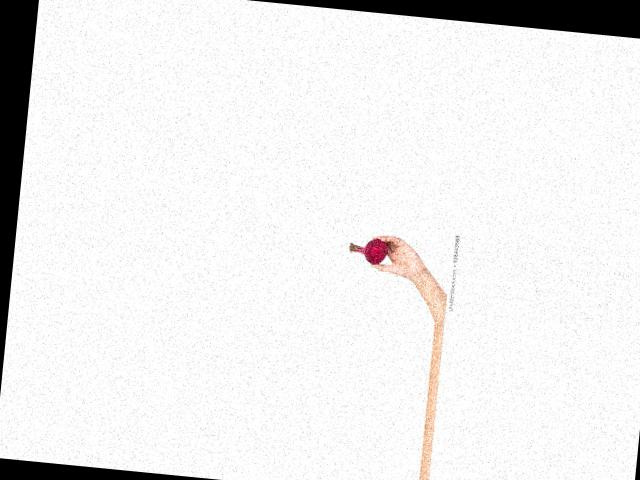beet: (347, 235, 387, 264)
